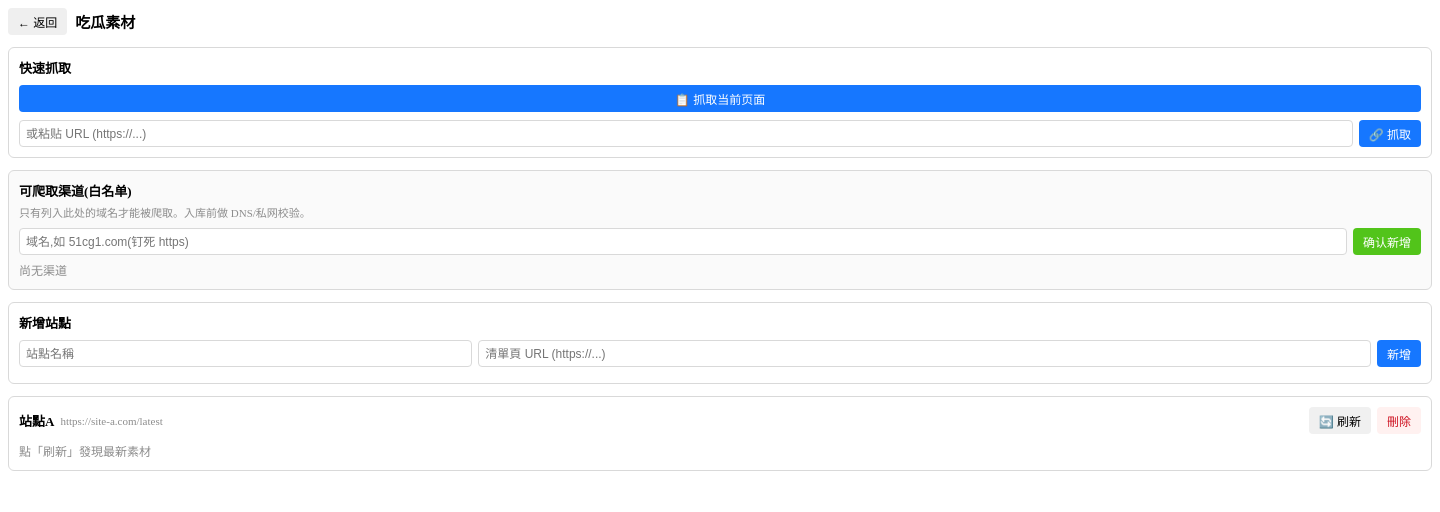
it: GossipView › 删除站点失败 → 错误显示在该站点卡片（discoverError），站点保留
expect the text "站點A" is shown: met, box top-left (19, 411), bottom-right (54, 430)
Click the button "刪除" at (1399, 420), box top-left (1377, 407), bottom-right (1421, 434)
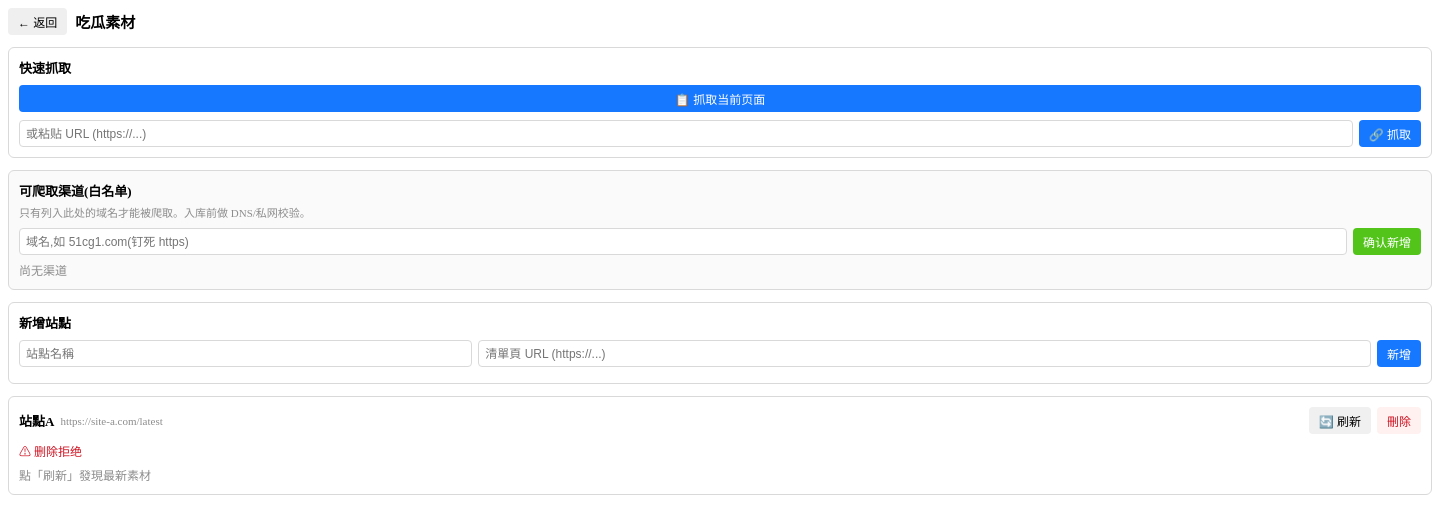
expect the text "站點A" is shown: met, box top-left (19, 411), bottom-right (54, 430)
expect the text "⚠ 删除拒绝" is shown: met, box top-left (19, 445), bottom-right (82, 459)
